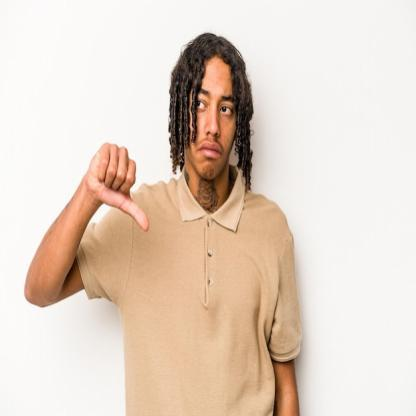thumb_down: (84, 138, 155, 234)
